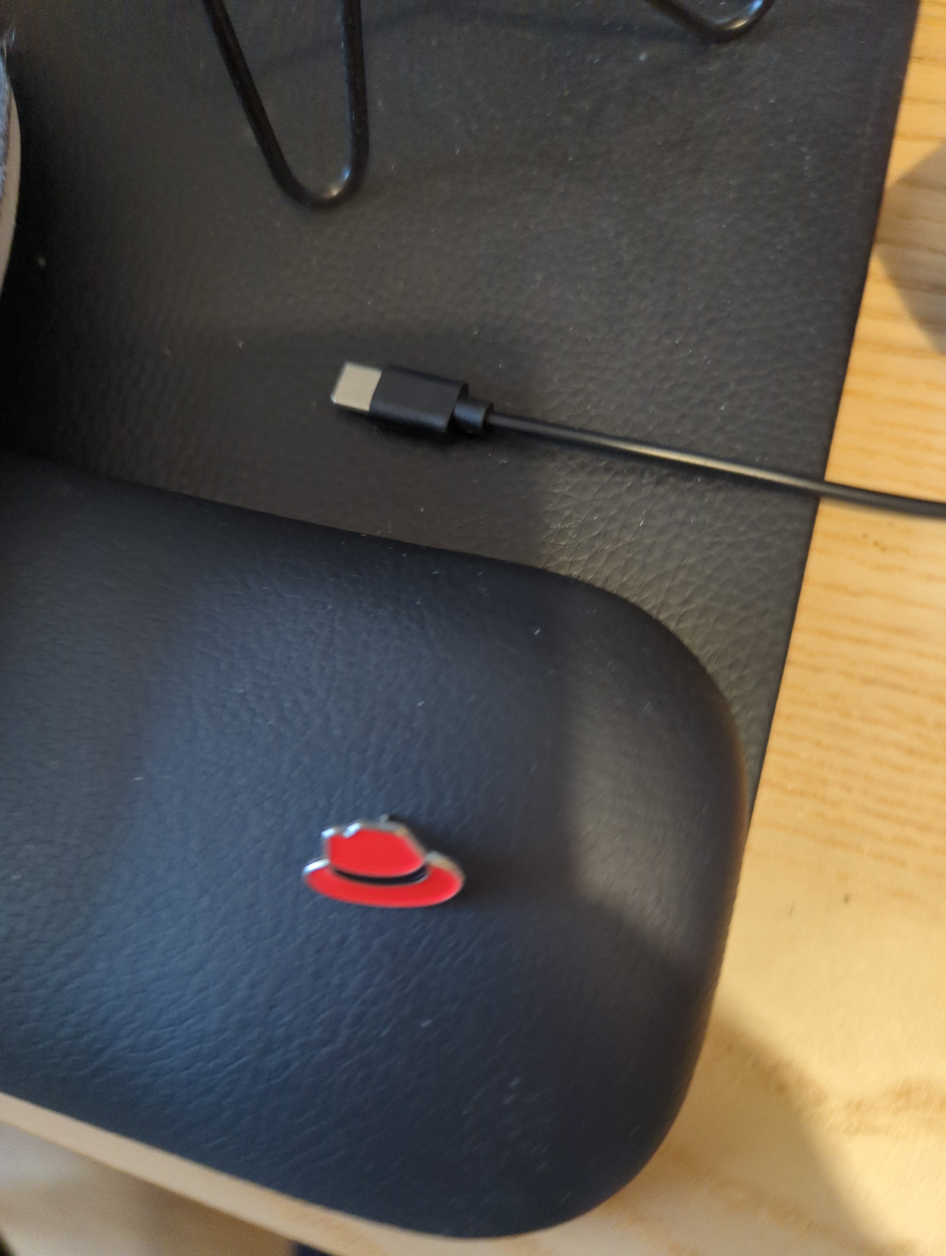Red-Hat: (217, 761, 561, 1006)
